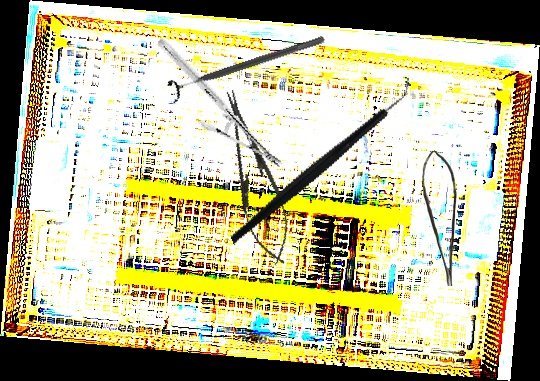Chopper: (198, 73, 443, 247)
Fixation Ring: (165, 26, 329, 105)
Micro Scissor: (421, 151, 457, 286)
Needle Holder: (133, 37, 307, 169), (210, 83, 301, 271)
